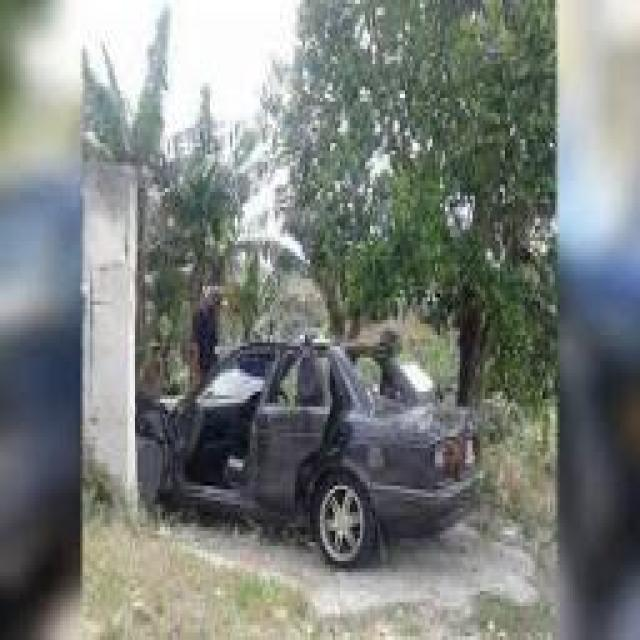Door: (175, 348, 269, 485)
